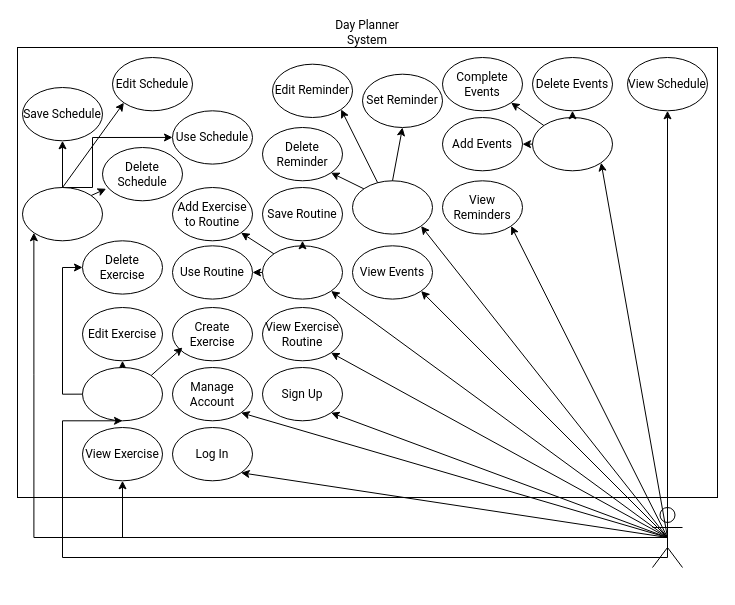
Image size: 735x605. Some labels were removed from this diagram. The box of each missing label's shape, as (x1, y1, x2, y2) in pixels:
Manage Events: (532, 116, 612, 171)
Manage Exercise Routine: (262, 245, 342, 299)
Manage Exercises: (82, 366, 162, 421)
Manage Reminders: (352, 180, 432, 234)
Manage Schedule: (22, 186, 102, 241)
User(Boss): (652, 506, 682, 568)
